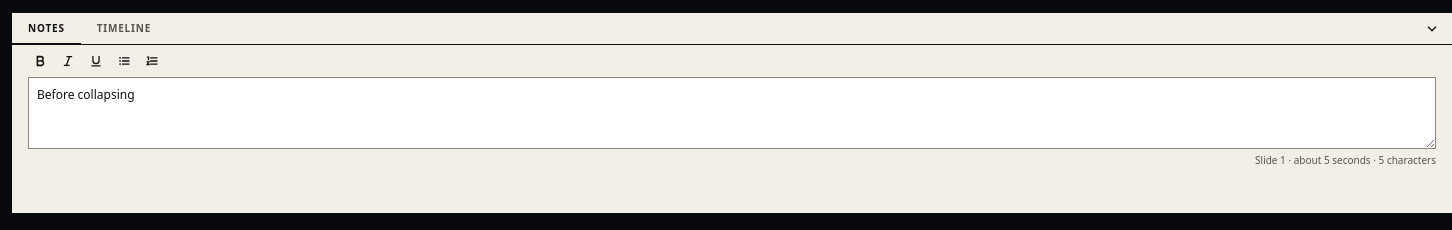
it: the speaker notes field › commits a draft when the dock is put away, though the field is gone
Clear the field with test id "speaker-notes" at (732, 113), box x1=28 y1=77 x2=1436 y2=149
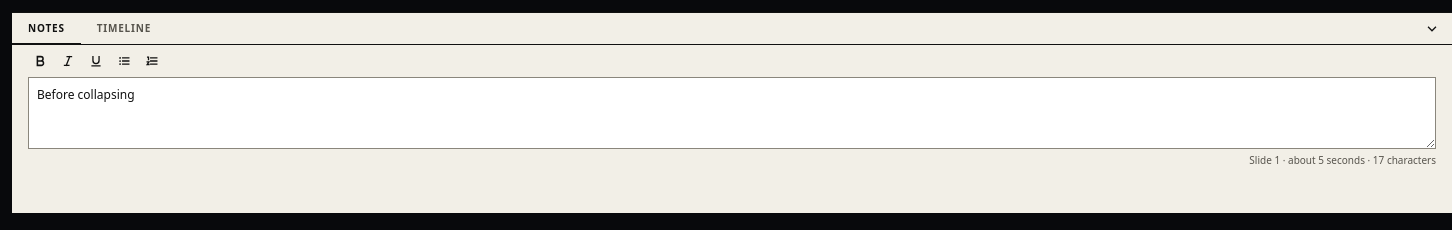
Click the button named "Hide the dock" at (1432, 28), box x1=1420 y1=16 x2=1444 y2=40
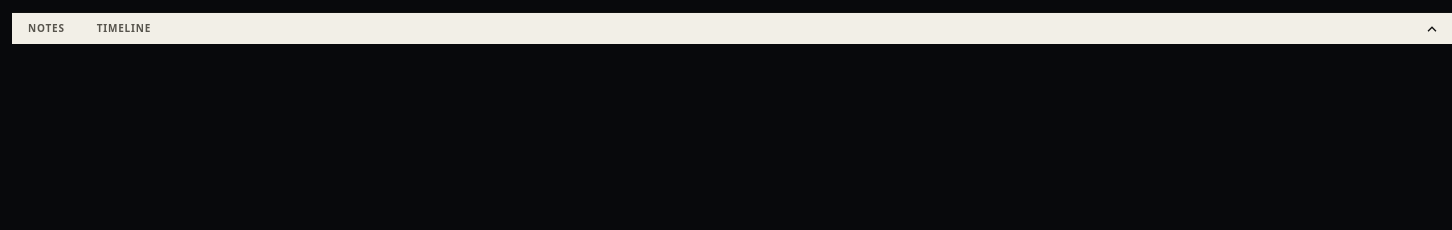
Check: the field with test id "speaker-notes" is gone
